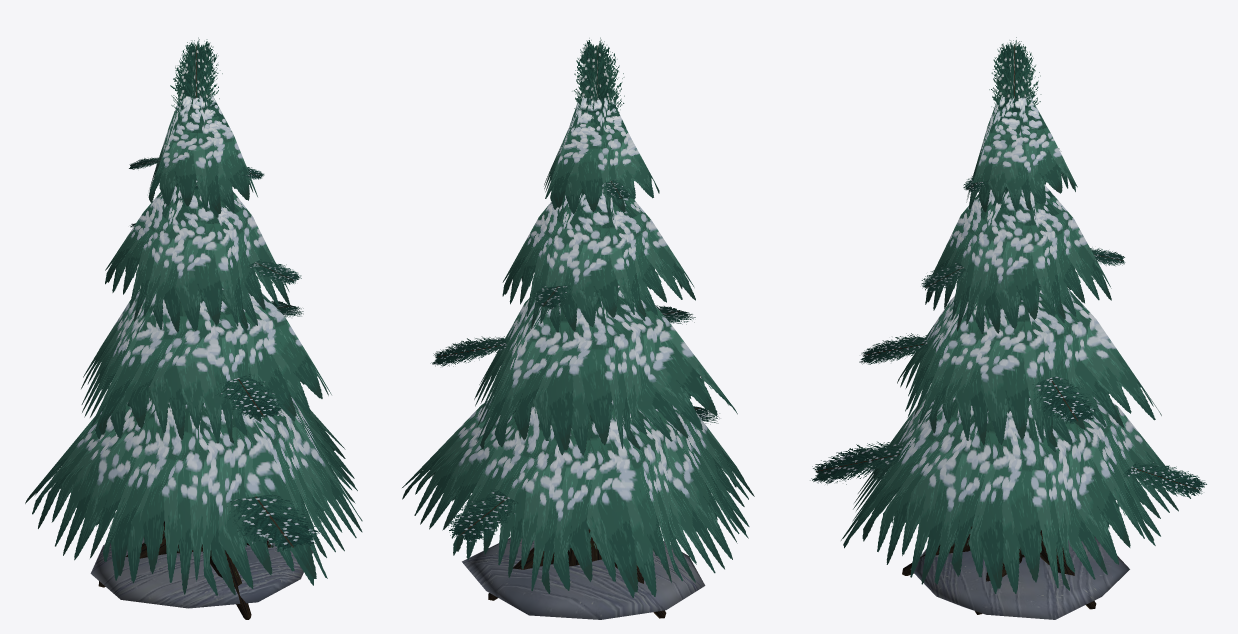
The model's file is rimeshore_pine_b.glb.
3 renders of one model, left to right at view 1: azimuth 30°, elevation 25°; view 2: azimuth 150°, elevation 25°; view 3: azimuth 270°, elevation 25°, orthographic.
Visible parts, largest first — view 1: rimeshore_pine_b; view 2: rimeshore_pine_b; view 3: rimeshore_pine_b.
Boxes of the visible parts, x1=… form: rimeshore_pine_b: x1=25, y1=37, x2=362, y2=619; rimeshore_pine_b: x1=402, y1=37, x2=754, y2=619; rimeshore_pine_b: x1=810, y1=37, x2=1206, y2=619.
Size of the model in its own units: 2.33 by 3.99 by 2.82.
3 materials, 3 textured.
